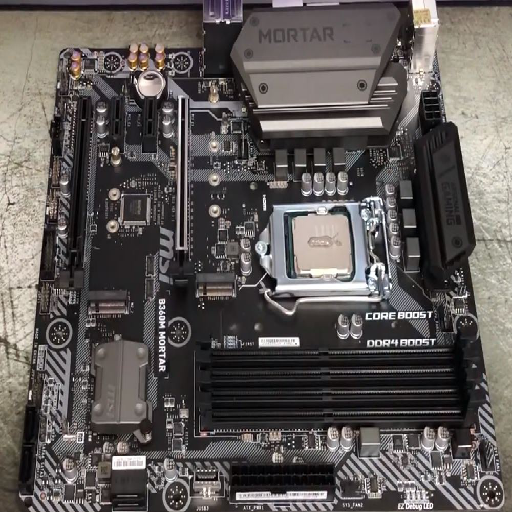CPU: (250, 184, 398, 303)
GPU: (60, 98, 94, 288), (173, 94, 191, 288)
MOTHERBOARD: (21, 5, 505, 510)
RAM: (192, 329, 486, 436)
SSD: (191, 272, 240, 302), (86, 287, 130, 317)
